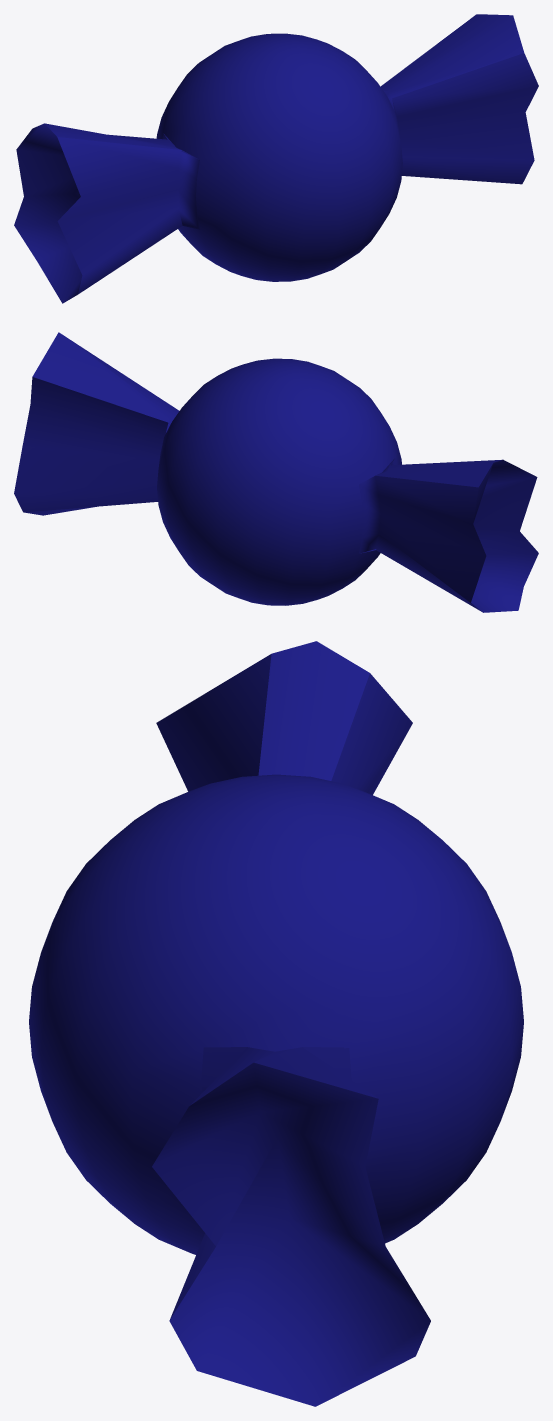
The model's file is RareCandy.fbx.
3 views of the same model, one above another, from view 1: azimuth 30°, elevation 25°; view 2: azimuth 150°, elevation 25°; view 3: azimuth 270°, elevation 25° (orthographic). The views are drawn at different scales.
Visible parts, largest first — view 1: rarecandy; view 2: rarecandy; view 3: rarecandy.
Boxes of the visible parts, x1,y1,x2,y2 form: rarecandy: (14, 14, 538, 303); rarecandy: (14, 332, 538, 612); rarecandy: (29, 641, 523, 1406).
Bounding box in the file's own units: 4.29 × 2 × 2.
